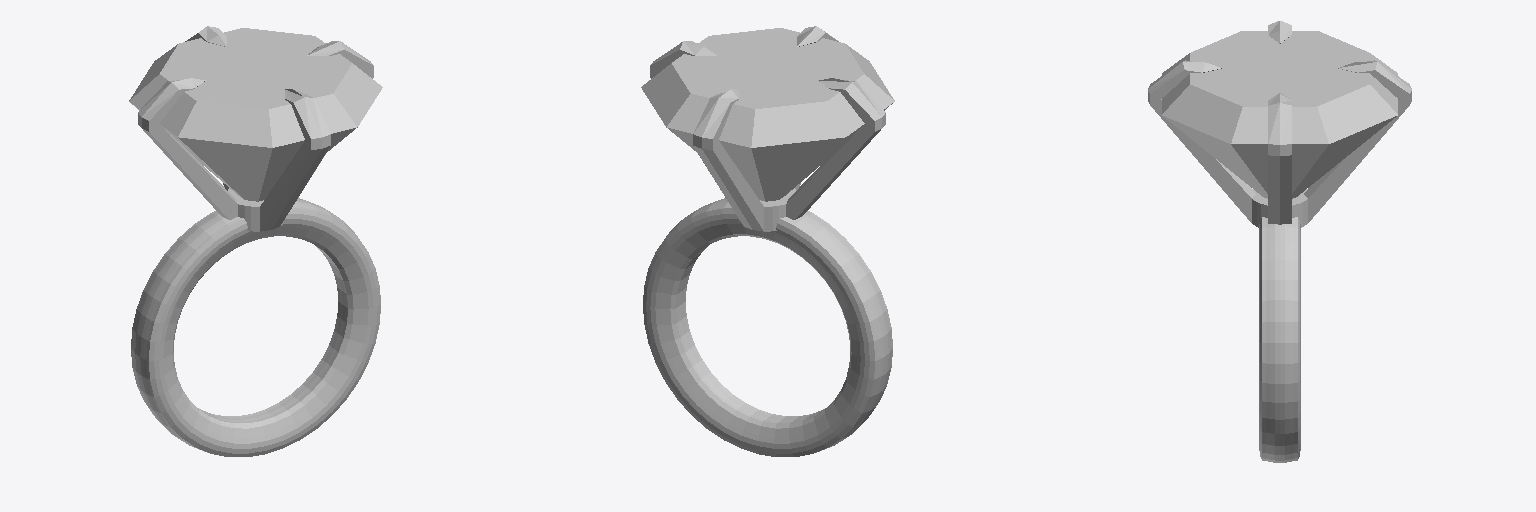
File: ring.obj
The picture shows the model from 3 angles: view 1: azimuth 30°, elevation 25°; view 2: azimuth 150°, elevation 25°; view 3: azimuth 270°, elevation 25°; orthographic projection.
Parts seen in each view (by area): view 1: トーラス.006, 円錐.006, 円柱.007; view 2: トーラス.006, 円錐.006, 円柱.007; view 3: 円錐.006, 円柱.007, トーラス.006.
Part boxes in pixels (left/top/right/bottom): トーラス.006: left=131, top=198, right=380, bottom=456; 円錐.006: left=129, top=28, right=382, bottom=201; 円柱.007: left=138, top=26, right=373, bottom=231; トーラス.006: left=643, top=198, right=892, bottom=456; 円錐.006: left=641, top=28, right=894, bottom=201; 円柱.007: left=650, top=26, right=885, bottom=231; 円錐.006: left=1162, top=31, right=1397, bottom=198; 円柱.007: left=1148, top=21, right=1411, bottom=227; トーラス.006: left=1259, top=217, right=1300, bottom=462.
Size of the model in its own units: 4.97 by 7.79 by 4.8.